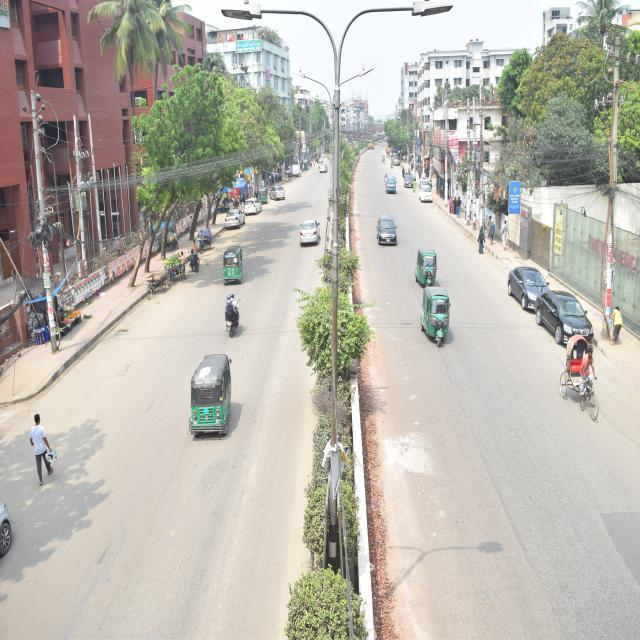car: (529, 276, 609, 360), (494, 225, 554, 328), (290, 208, 341, 273), (372, 204, 411, 259), (220, 192, 249, 240), (234, 180, 270, 218), (254, 177, 293, 208), (417, 178, 438, 219), (316, 158, 338, 189), (401, 165, 416, 198)
motorbike: (206, 268, 258, 343), (182, 232, 211, 286)
pickup-van: (363, 166, 402, 207), (289, 152, 312, 198)
